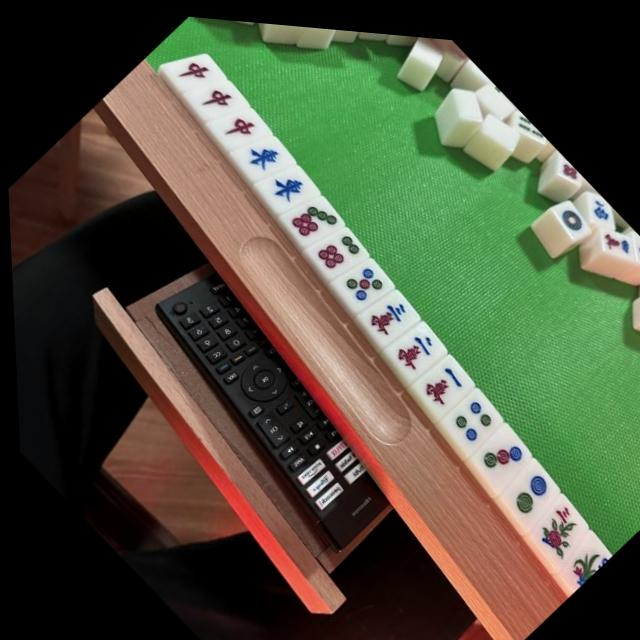bf2: (541, 517, 610, 588)
bs3: (516, 483, 594, 564)
hdr: (166, 37, 220, 93), (212, 97, 266, 152), (188, 69, 239, 121)
hwe: (255, 153, 314, 214), (234, 123, 290, 181)
sc1: (409, 345, 474, 412)
sc2: (381, 310, 444, 375)
sc3: (356, 279, 415, 340)
sd2: (487, 446, 559, 520)
sd3: (463, 415, 528, 482)
sd4: (437, 380, 499, 444)
sd5: (333, 249, 387, 304)
sd6: (306, 215, 364, 275)
sd7: (278, 183, 342, 249)
